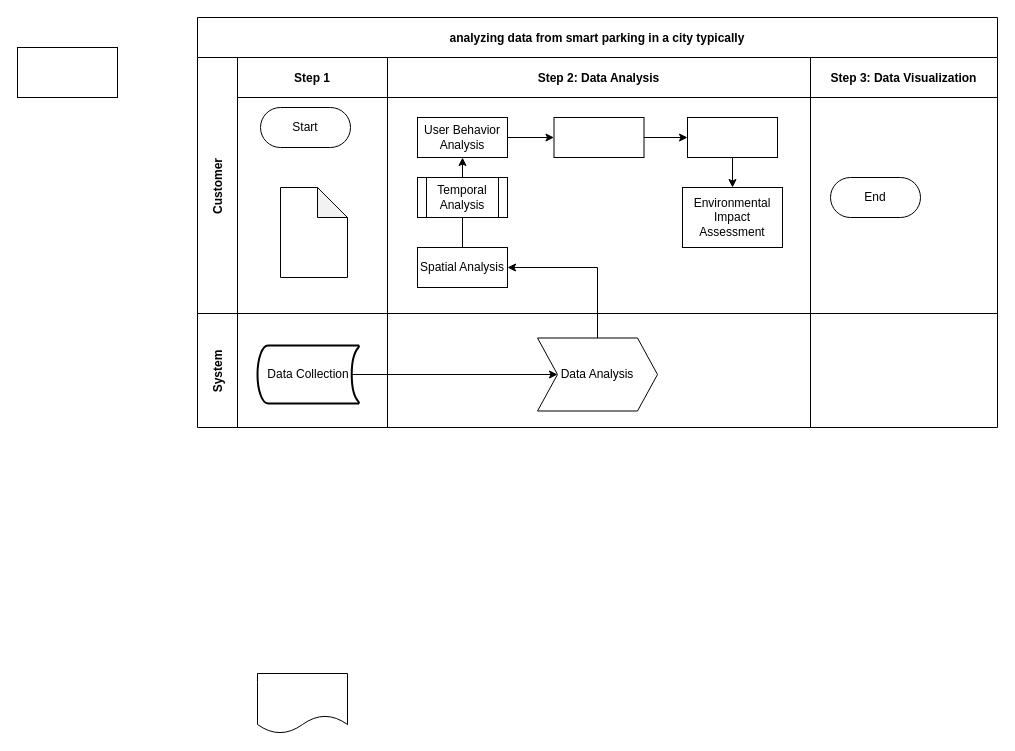
This 1015x751 diagram has some shape labels left out. The shapes that lost their labels are listed below. From the top down, each one's box as (x1, y1, x2, y2) in pixels, then its label:
(16, 46, 118, 98): Data Preprocessing
(553, 116, 644, 158): Demand Prediction
(686, 116, 778, 158): Parking Space Optimization
(280, 186, 348, 278): check Figure 5 for user collect data
(256, 672, 348, 734): Write details on cup
